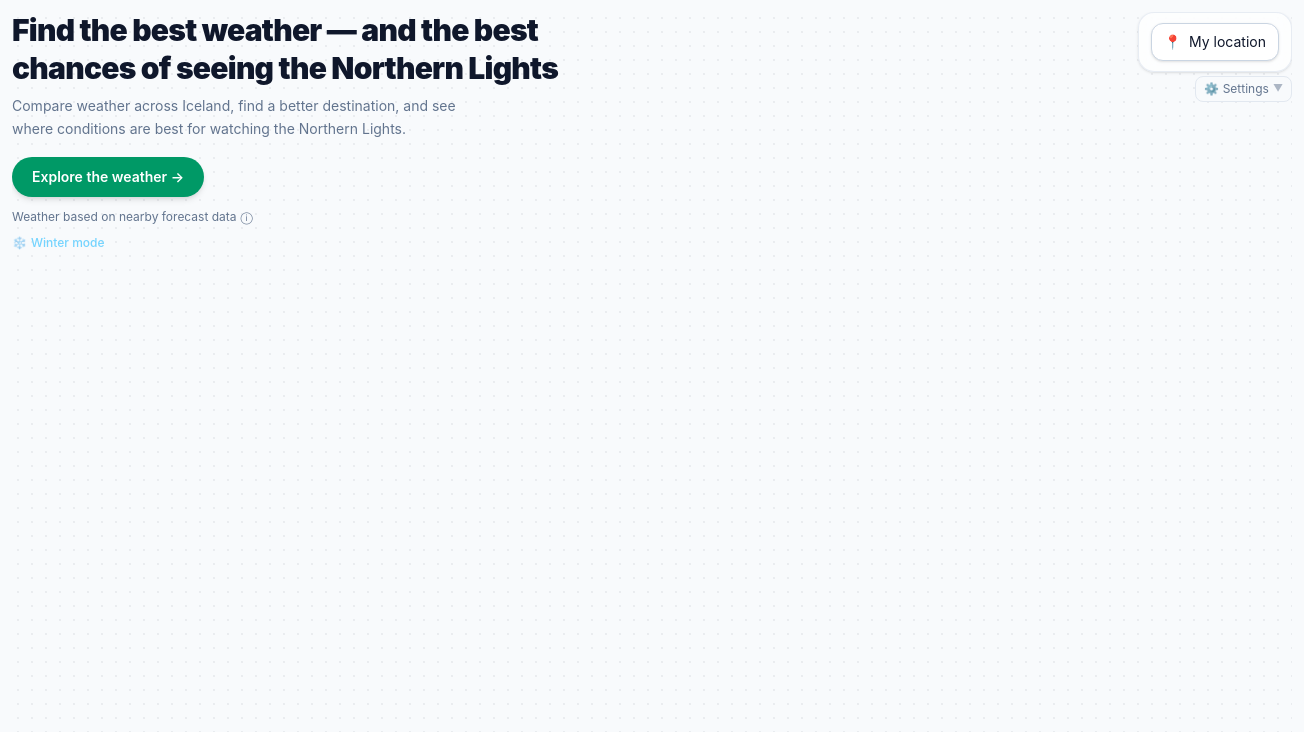
Toolbar logout row › is shown and the DEV toggle is hidden when DEV is false
The image size is (1304, 732).
Click the button "⚙ Settings ▼".
click(1243, 89)  # box top-left (1195, 76), bottom-right (1292, 102)
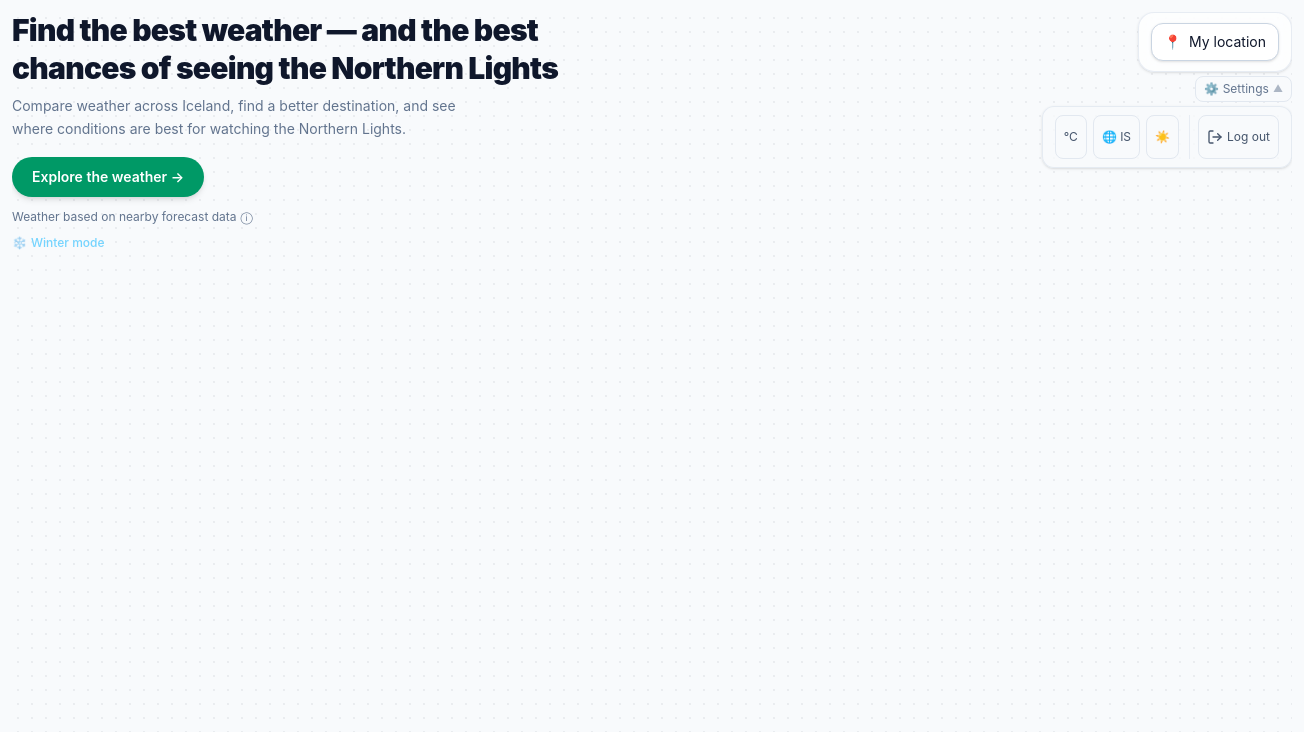
Expected: the button "Log out" is shown, top-left (1198, 115), bottom-right (1279, 159)
